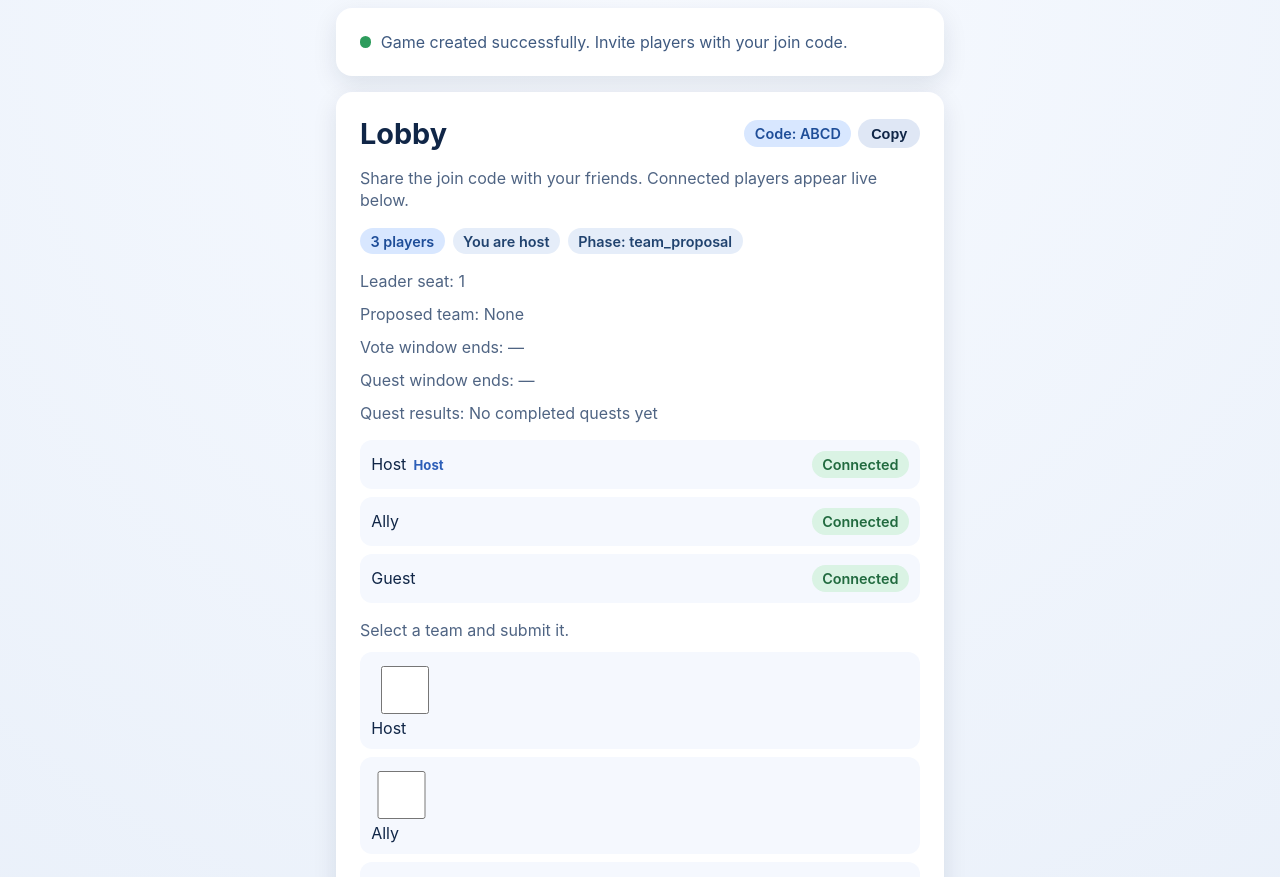
Scenario: App game progression › covers team proposal, voting, and quest action flow with server state updates
The width and height of the screenshot is (1280, 877).
Click the checkbox labelled "Host" at (405, 690), box [375,666,435,714]
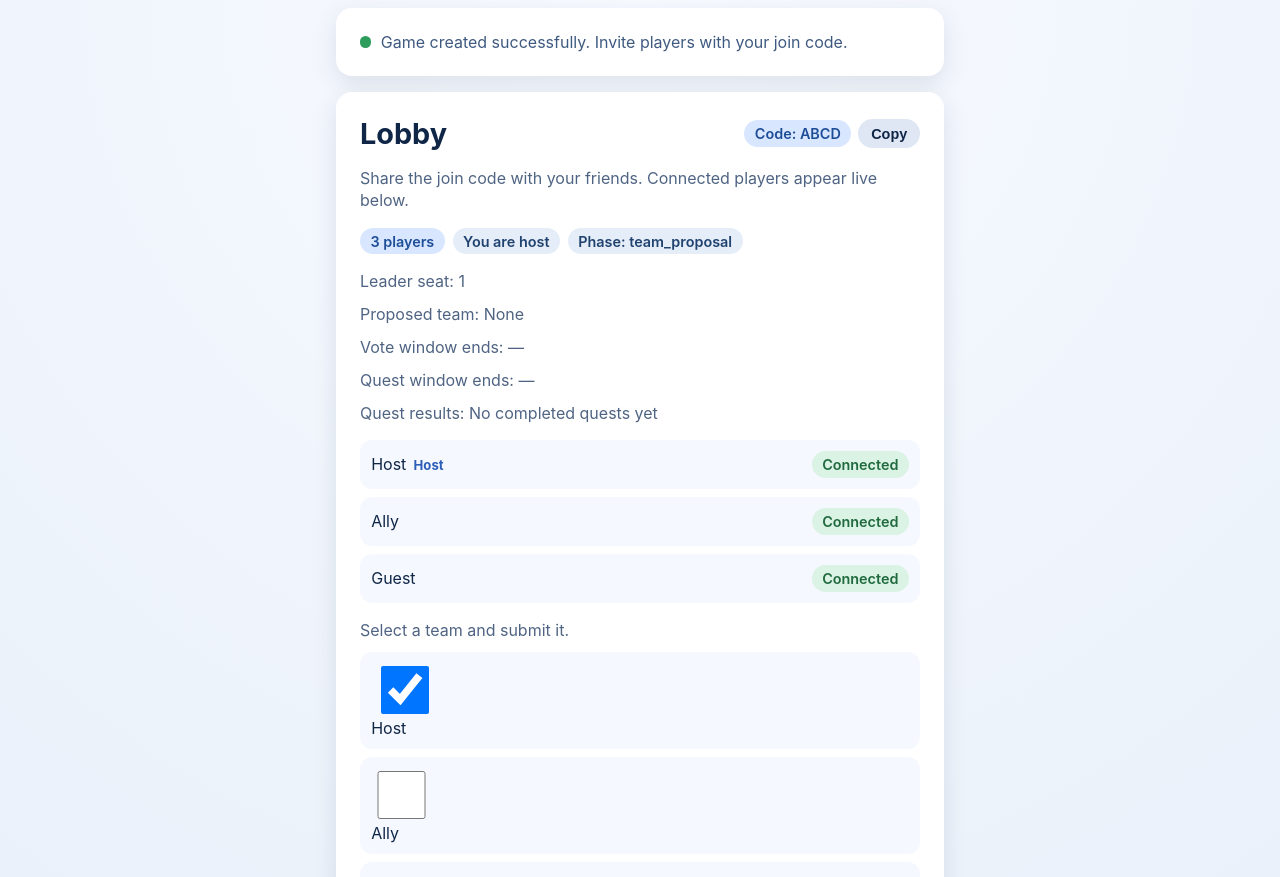
Click the checkbox labelled "Ally" at (401, 795), box [375,771,428,819]
(page scrolled)
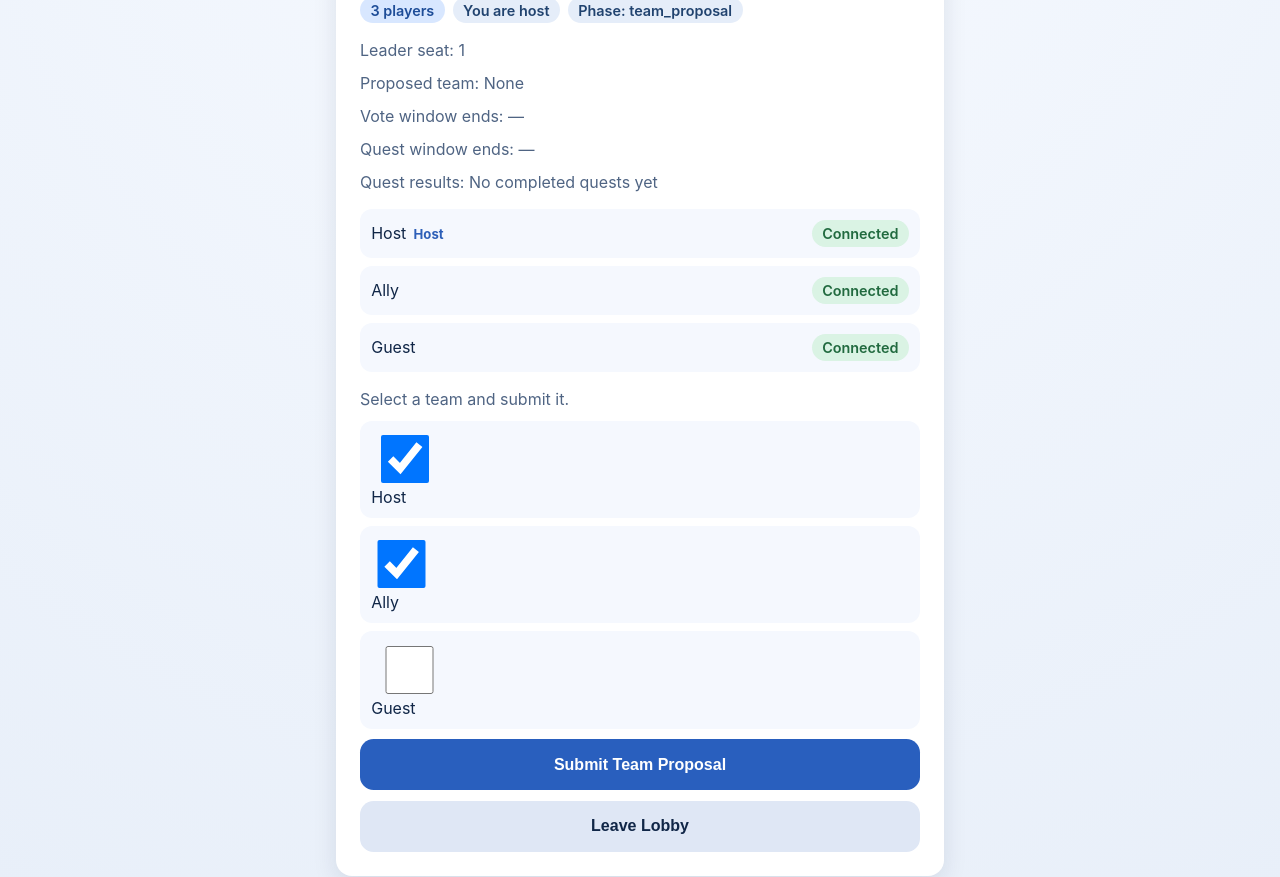
Click the button "Submit Team Proposal" at (640, 765), box [360,739,920,790]
(page scrolled)
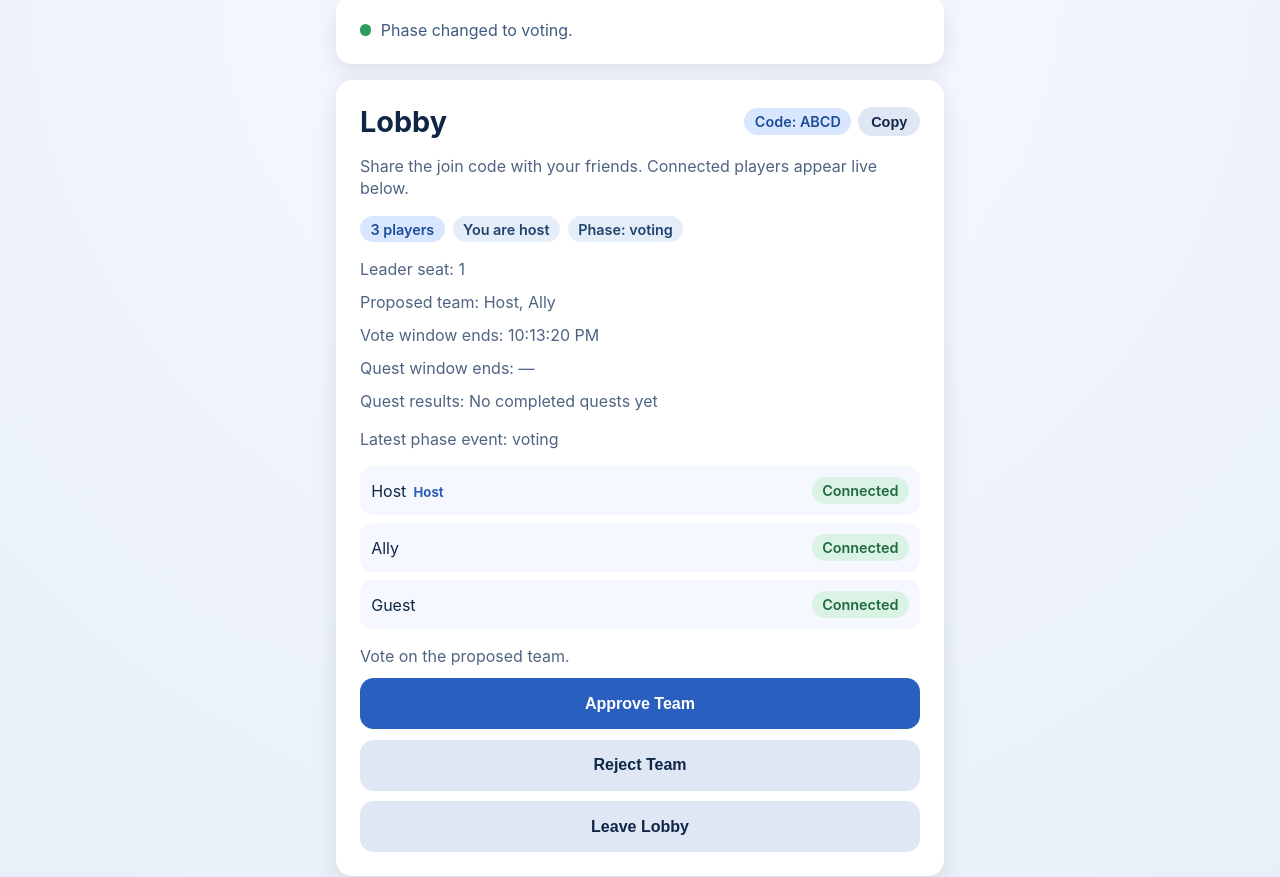
expect the button "Approve Team" is shown: met
Click the button "Approve Team" at (640, 704), box [360,678,920,729]
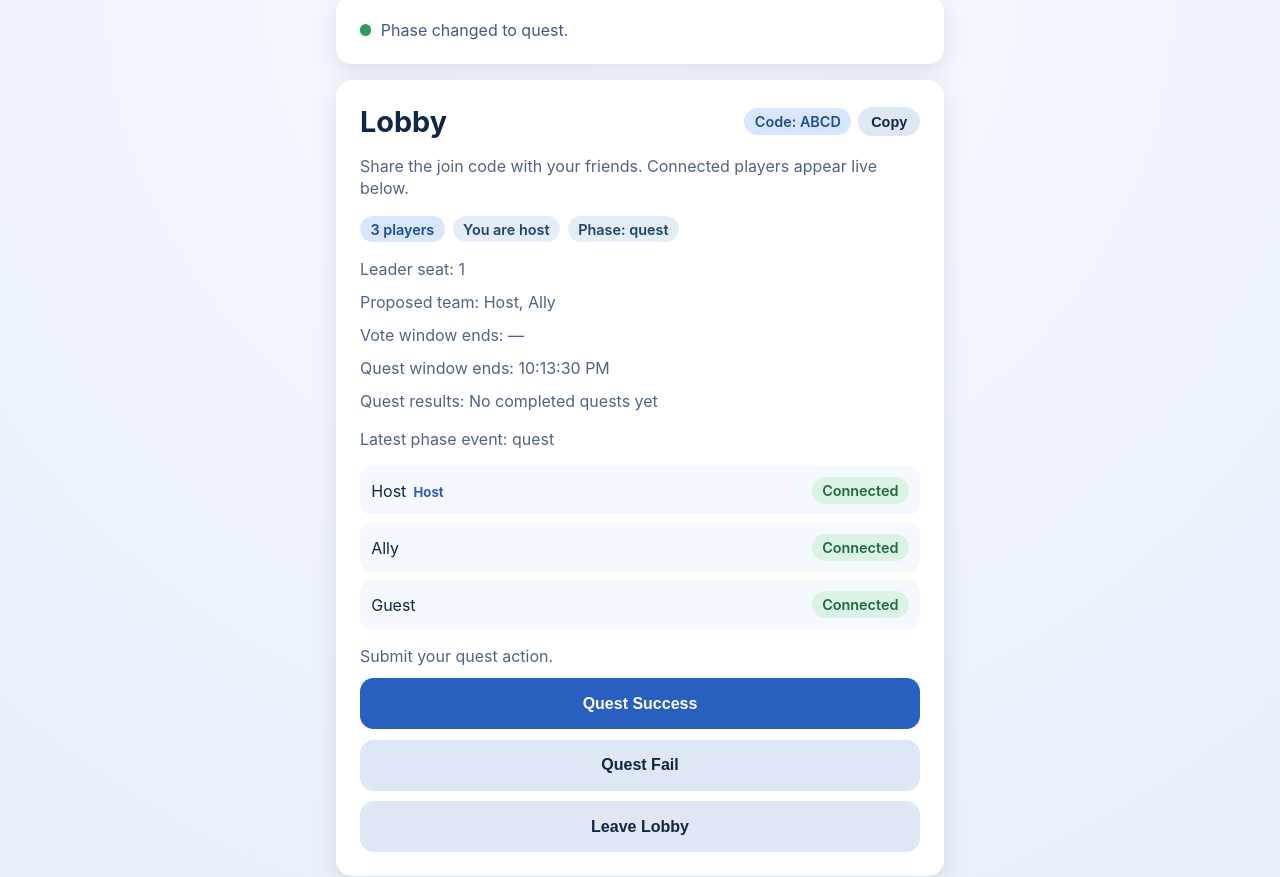
expect the text "Latest phase event: voting" is shown: met, box [360,429,554,449]
expect the button "Quest Success" is shown: met
Click the button "Quest Success" at (640, 704), box [360,678,920,729]
(page scrolled)
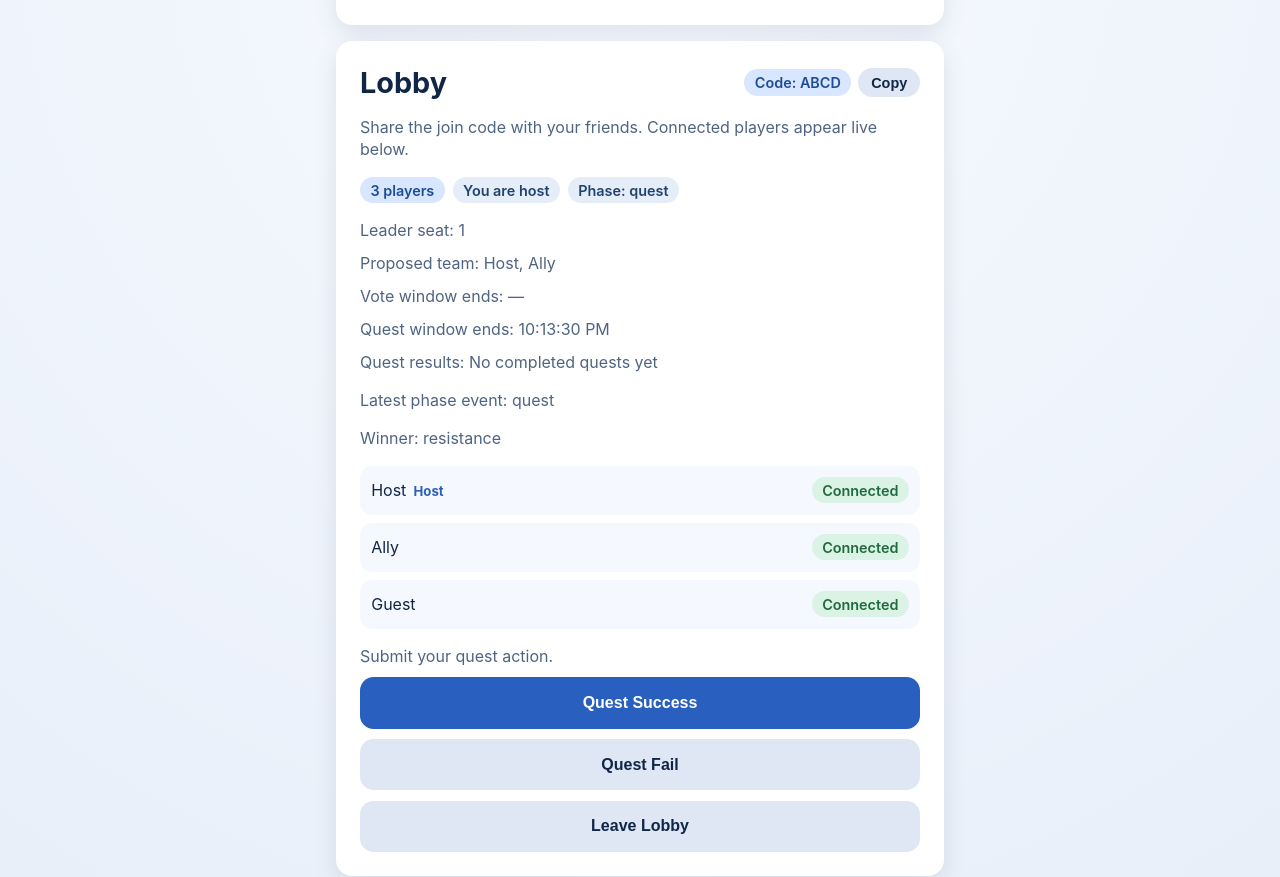
expect the text "Winner: resistance" is shown: met, box [360,428,501,448]
